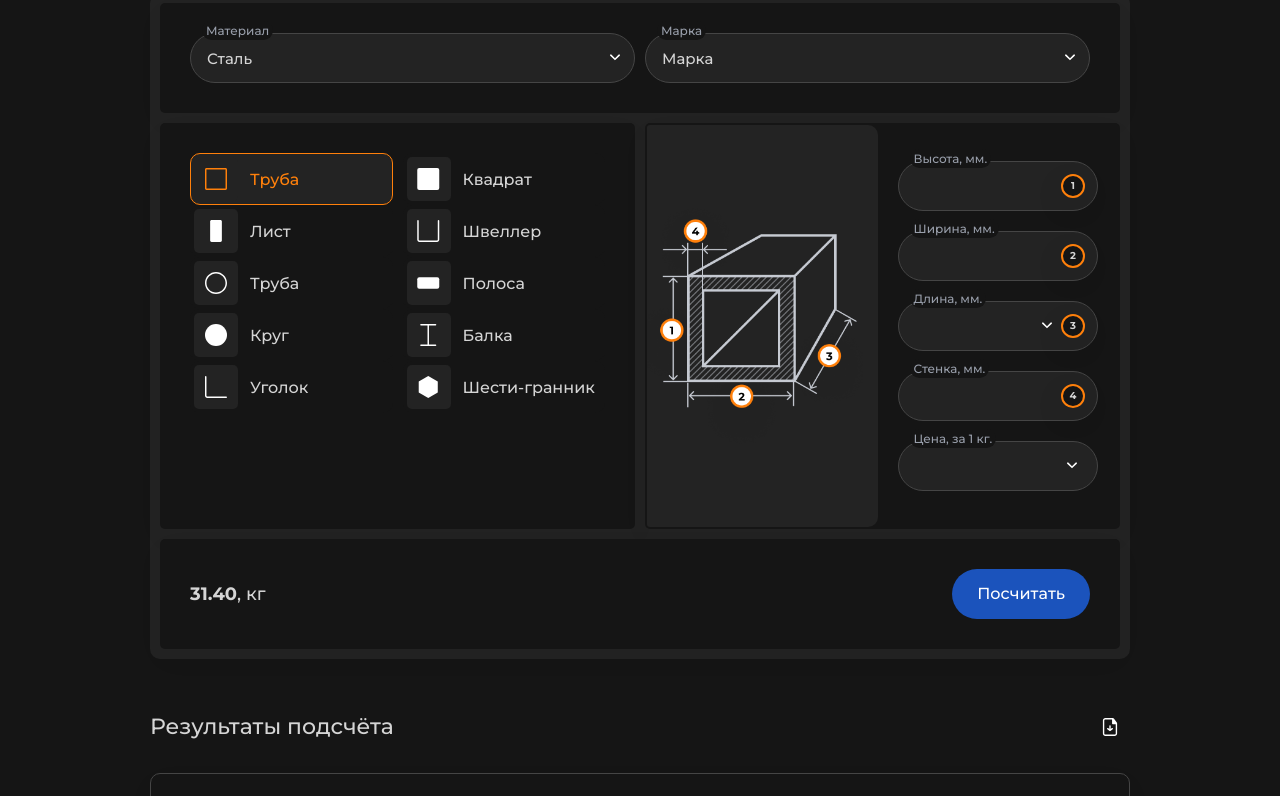
Test: App common test › Removing result
In the number field with test id "height": (998,186) 898,161 -> 1098,211, type "100"
In the number field with test id "width": (998,256) 898,231 -> 1098,281, type "100"
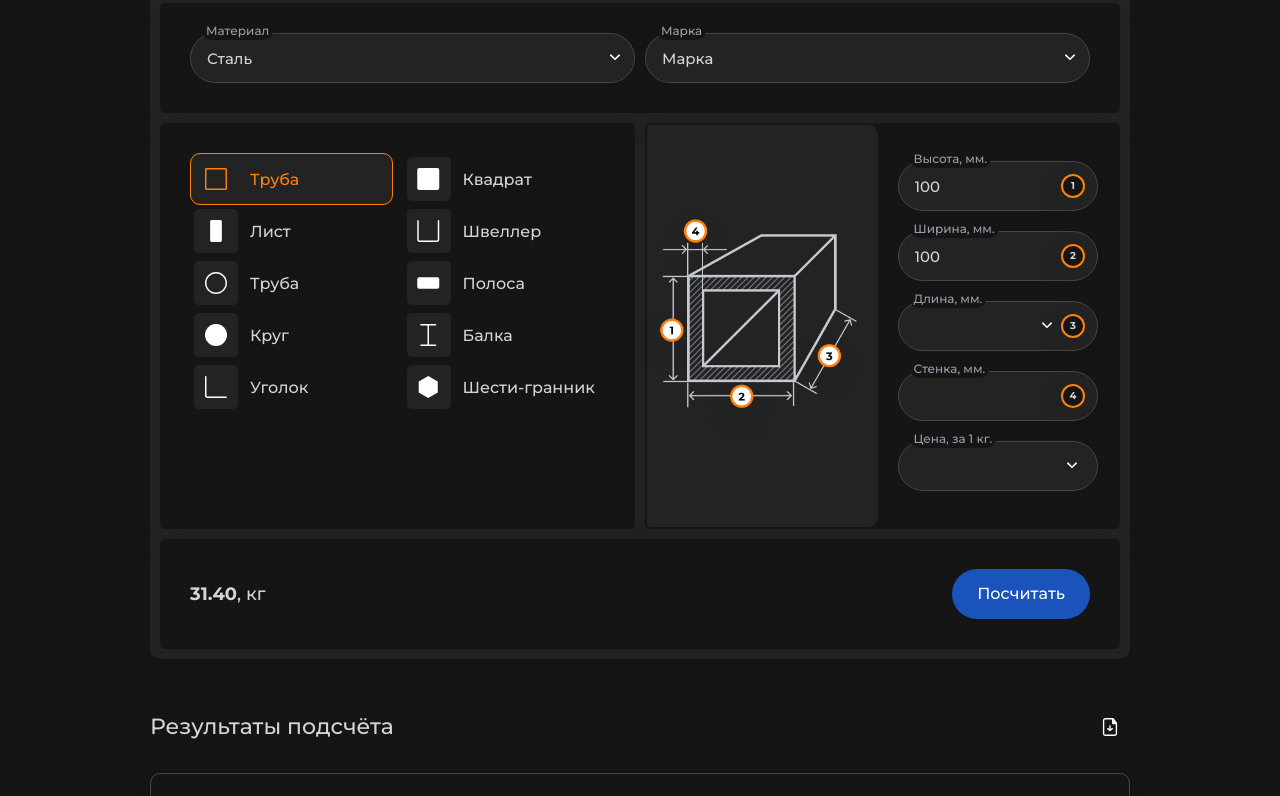
In the number field with test id "length": (998,326) 898,301 -> 1098,351, type "1000"
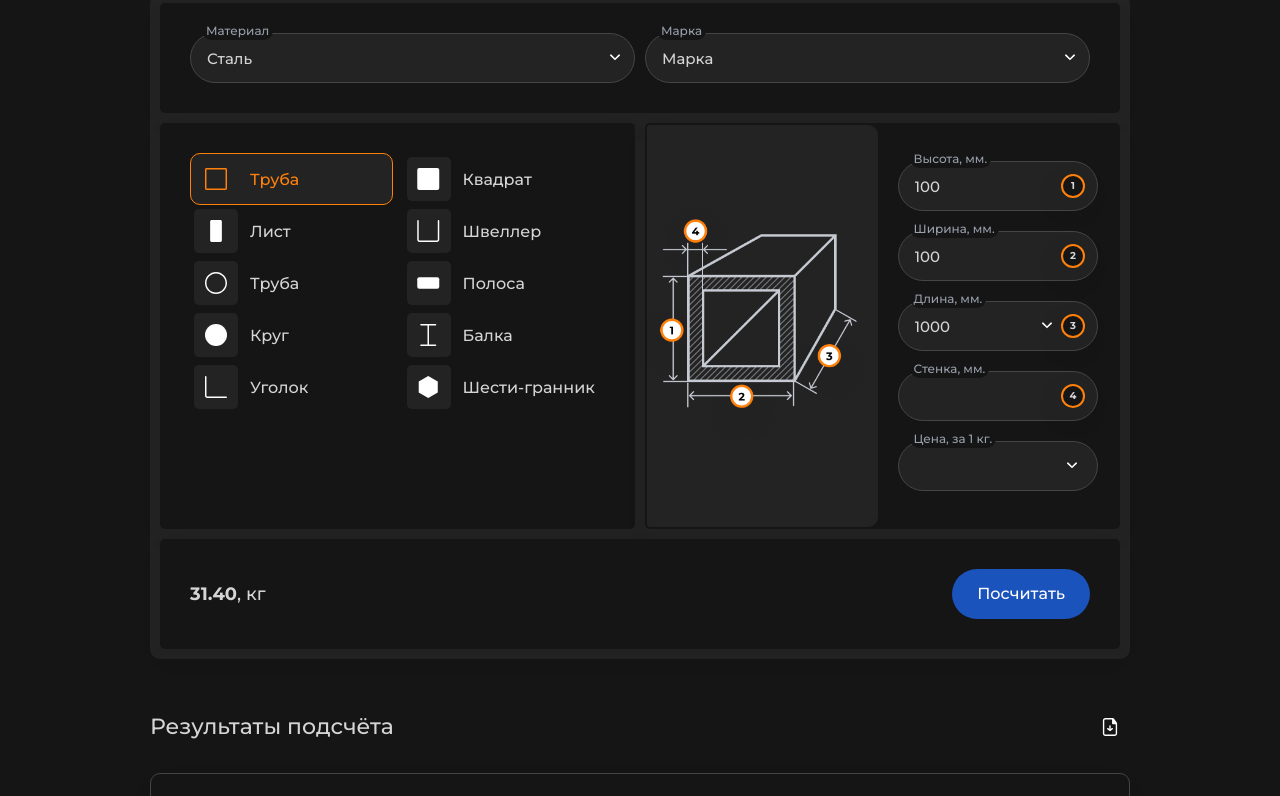
In the number field with test id "wall": (998,396) 898,371 -> 1098,421, type "10"
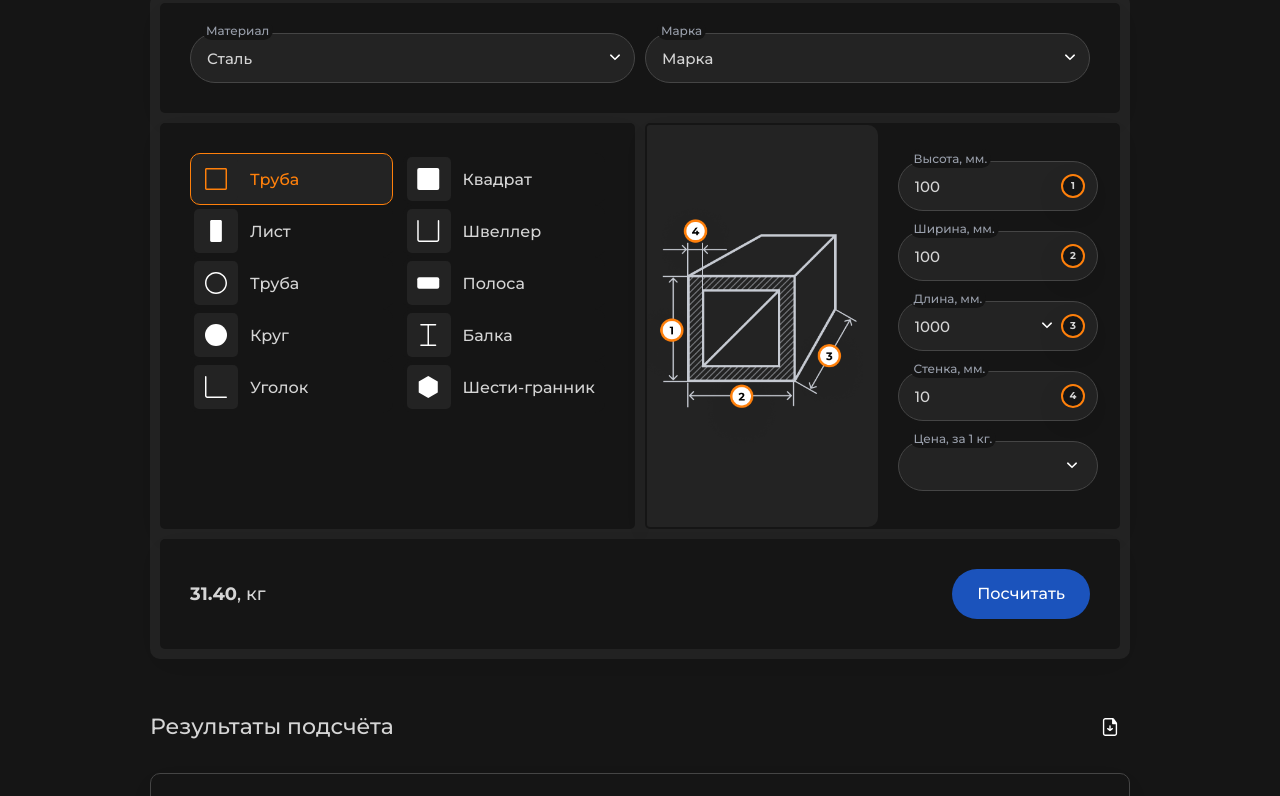
Click the button "Посчитать": (1021,594) 952,569 -> 1090,619
(page scrolled)
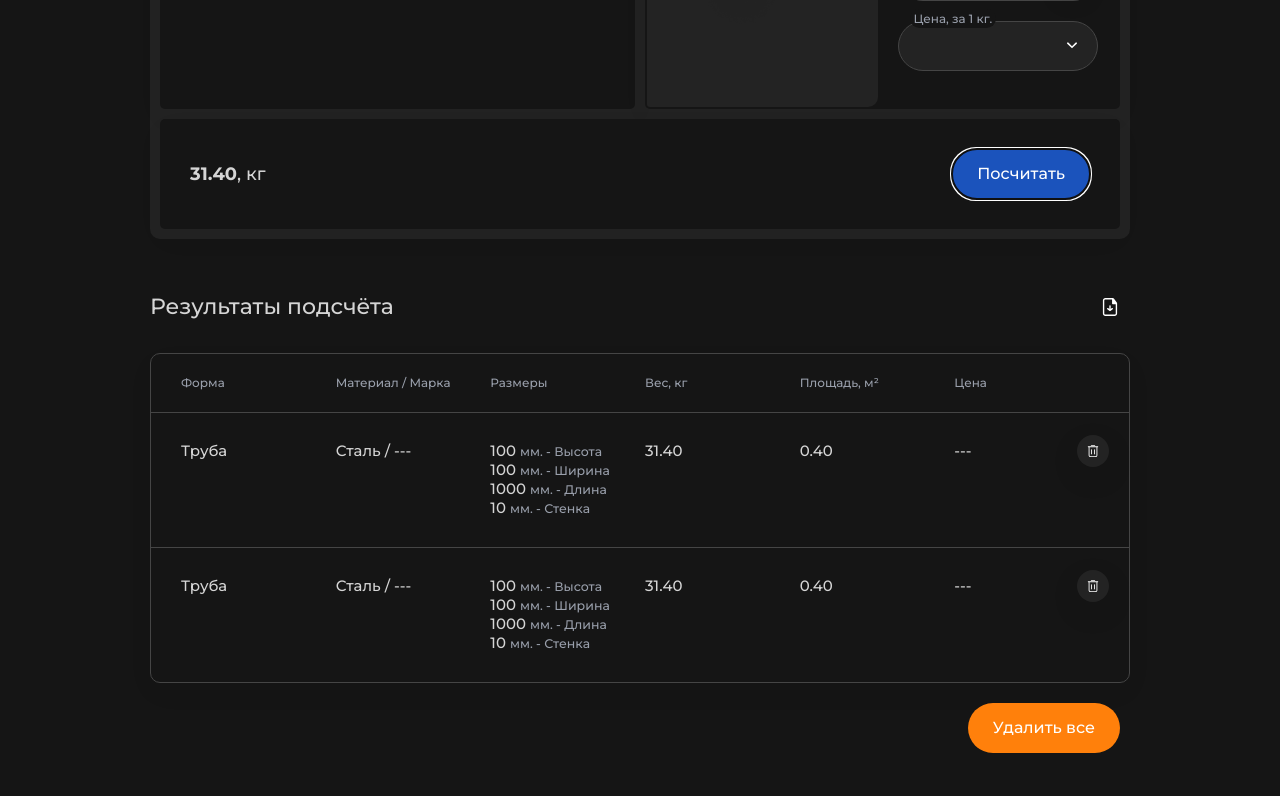
Expected: the heading "Результаты подсчёта" is shown, 150,294 -> 394,320
Click the button "Удалить все": (1044,728) 968,703 -> 1120,753
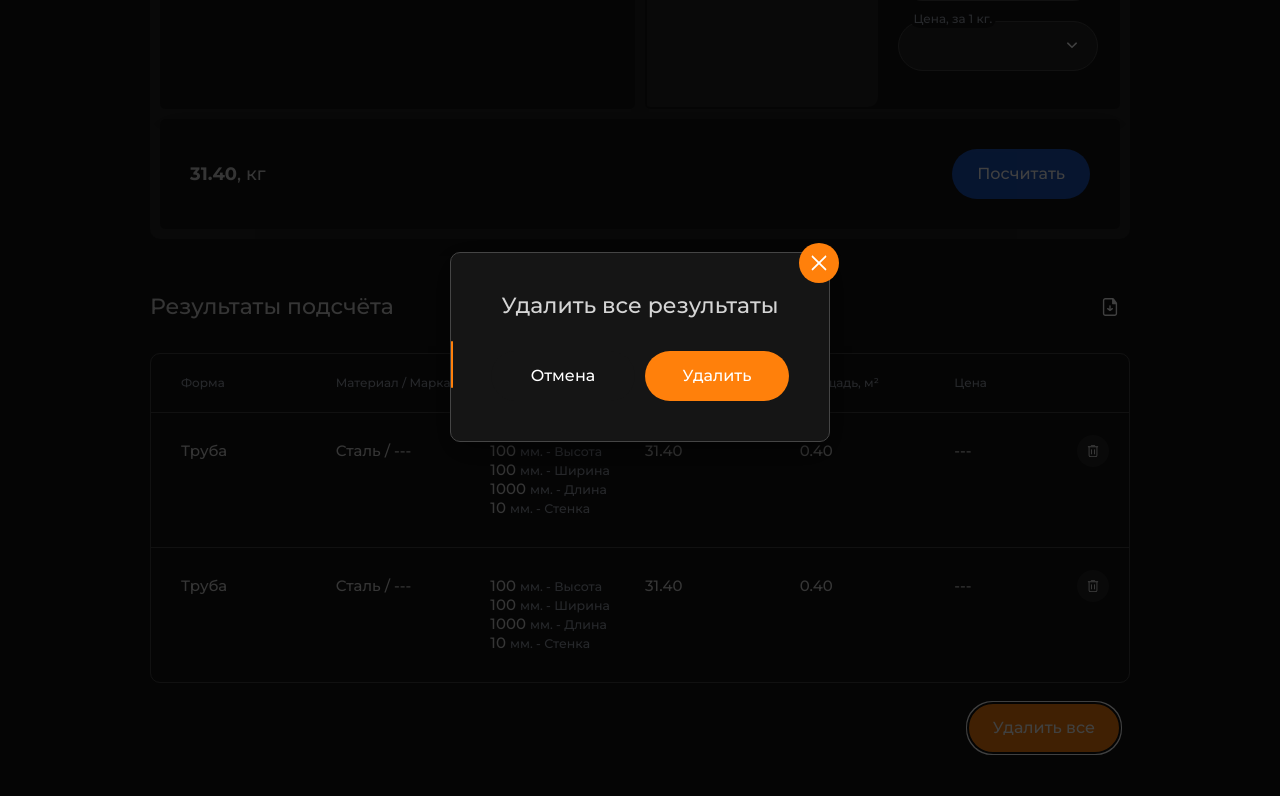
Expected: the heading "Удалить все результаты" is shown, 491,293 -> 789,319
Click the button with test id "removeHandler": (717,376) 645,351 -> 789,401
(page scrolled)
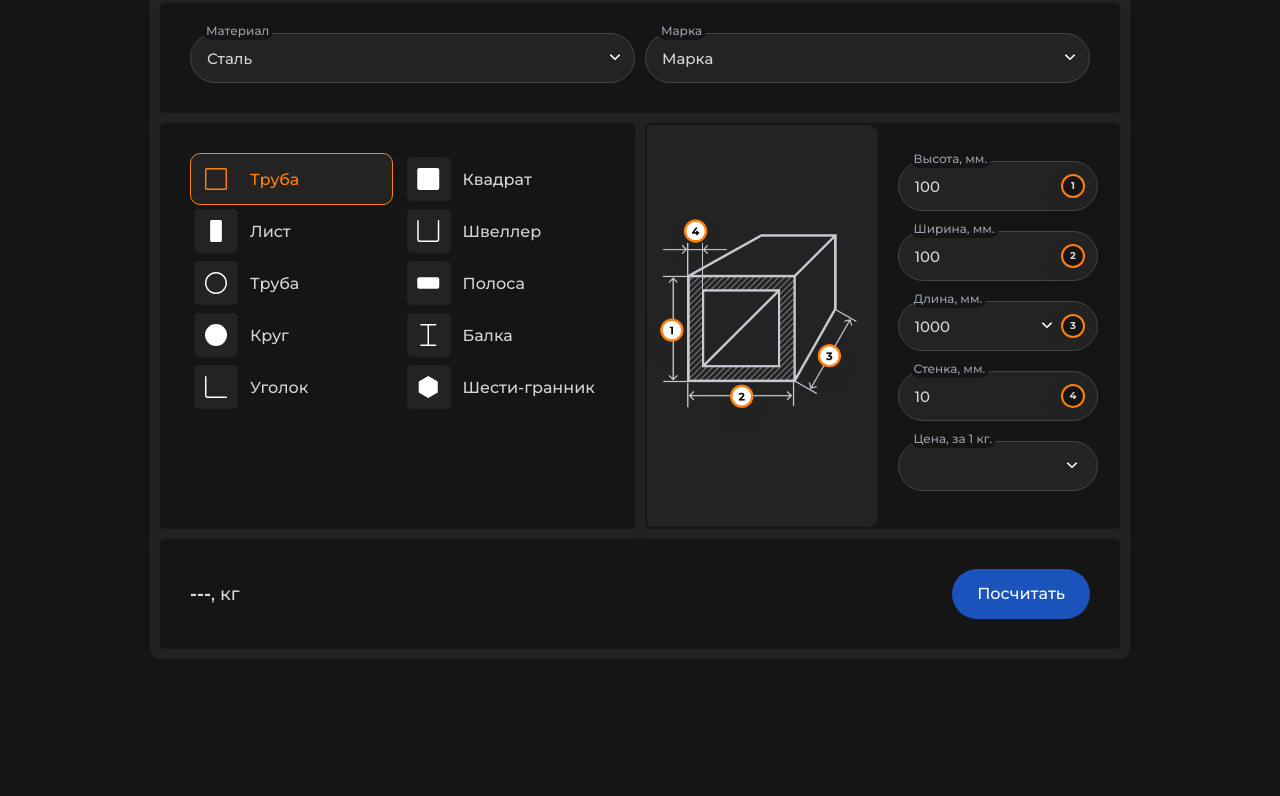
Expected: the heading "Результаты подсчёта" is gone
